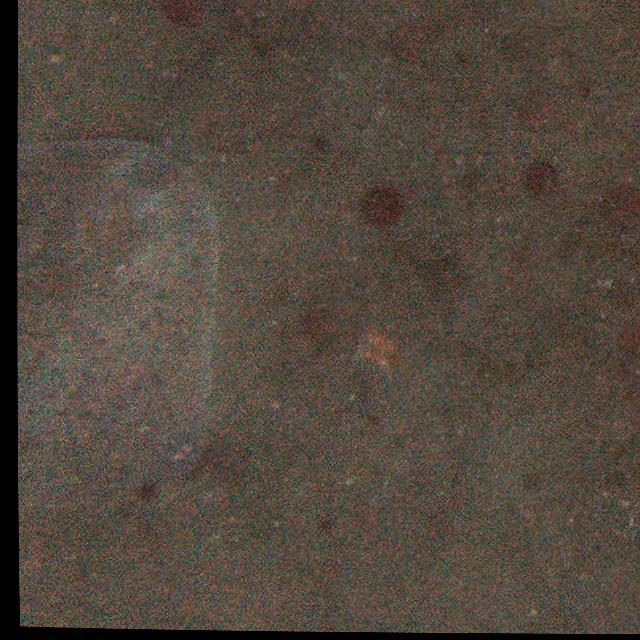skate: (17, 135, 214, 528)
